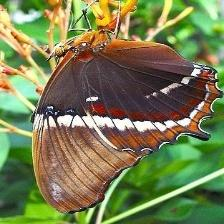butterfly: (33, 0, 223, 213)
